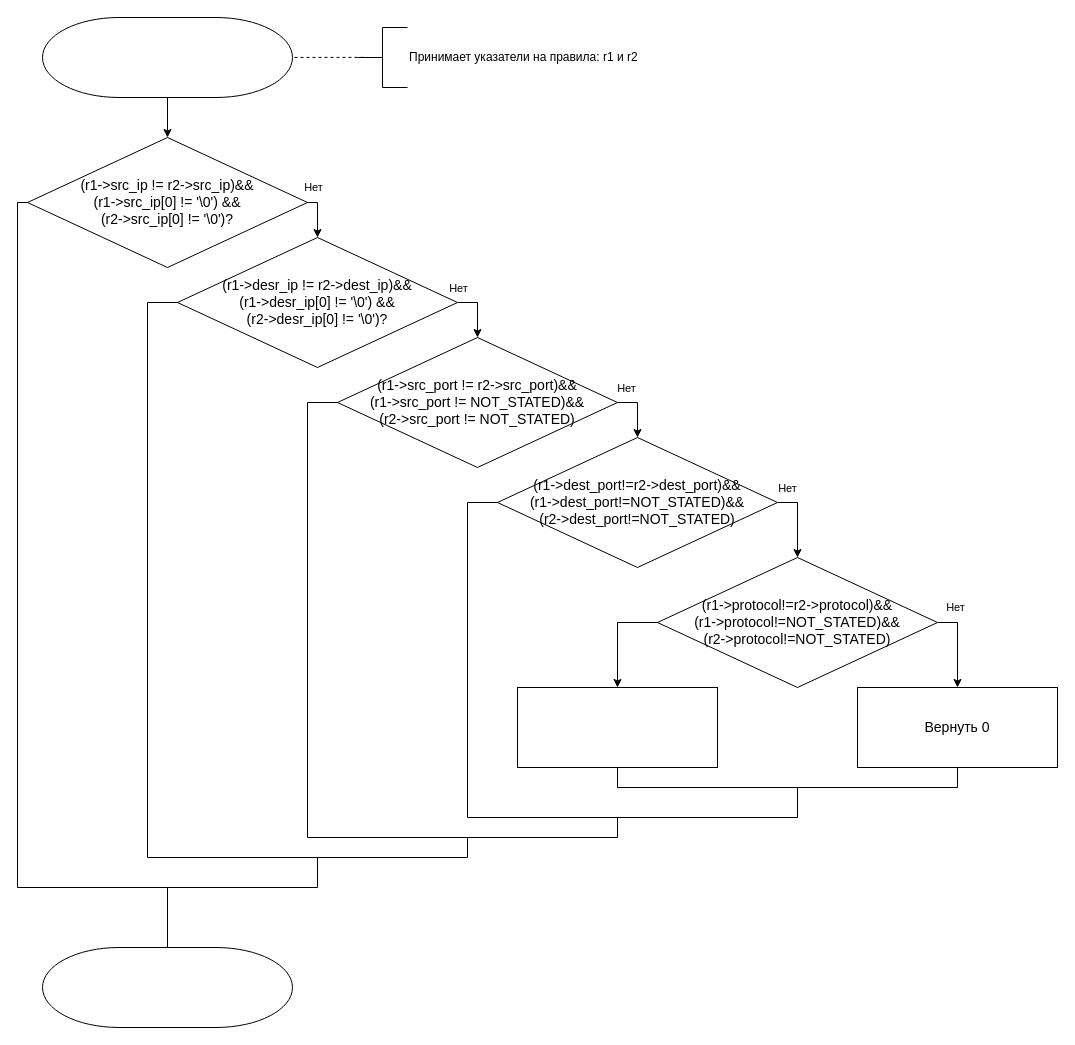
Some shapes in this 1075 by 1045 pixel diagram are drawn without their labels. Here are the shapes that lost their labels. From the top down, the box of each, then its label:
(42, 16, 292, 98): Начало
(516, 686, 718, 768): Вернуть -1
(42, 946, 292, 1028): Конец
